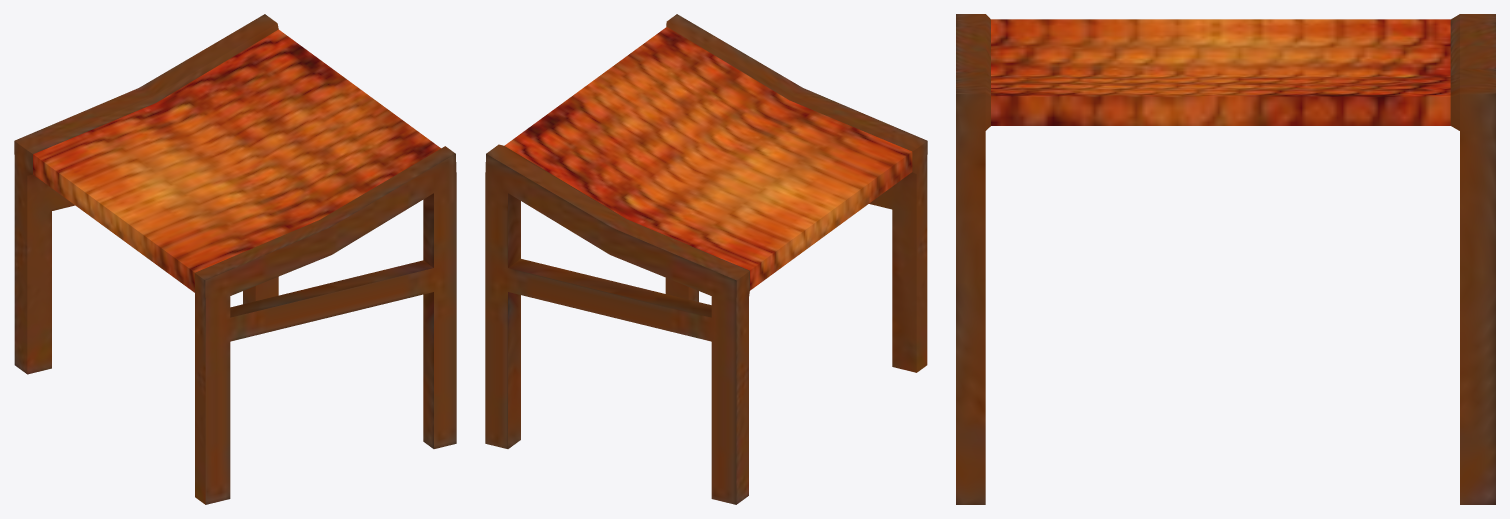
Rendered from free_medieval_canopy.glb.
3 views of the same model, side by side, from view 1: azimuth 30°, elevation 25°; view 2: azimuth 150°, elevation 25°; view 3: azimuth 270°, elevation 25° (orthographic). The views are drawn at different scales.
Visible parts, largest first — view 1: free_medieval_canopy; view 2: free_medieval_canopy; view 3: free_medieval_canopy.
Boxes of the visible parts, x1,y1,x2,y2 form: free_medieval_canopy: [14, 14, 456, 504]; free_medieval_canopy: [485, 14, 927, 504]; free_medieval_canopy: [956, 14, 1495, 504].
Bounding box in the file's own units: 1.25 × 1.37 × 1.64.
Materials: 1 (1 with a texture image).
